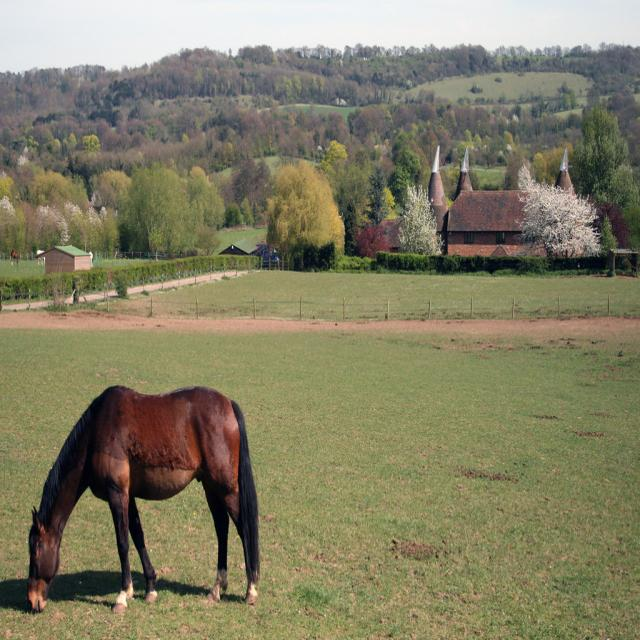Horse: (26, 385, 260, 611)
